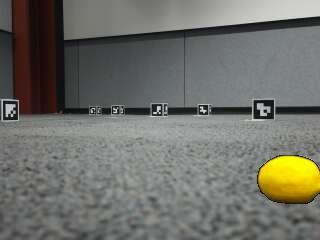lemon: (257, 156, 319, 204)
